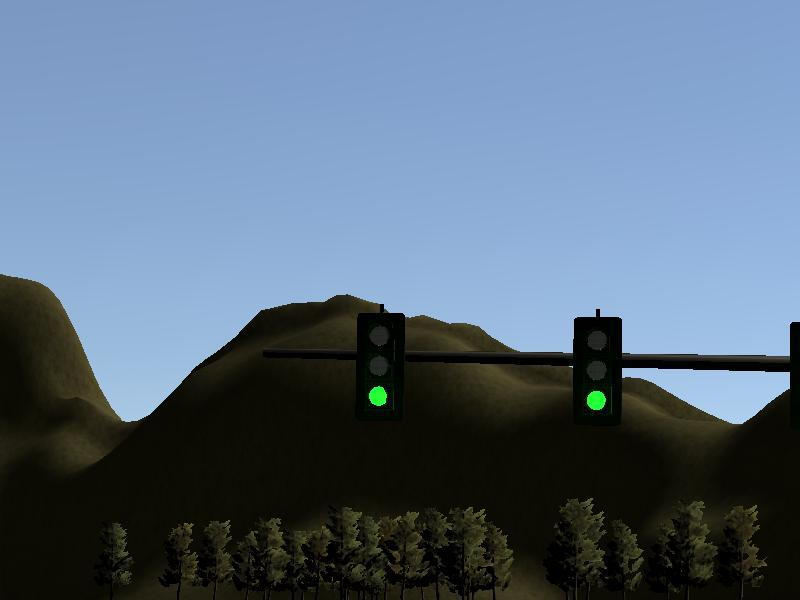Green: (577, 317, 622, 424), (359, 313, 404, 419)
